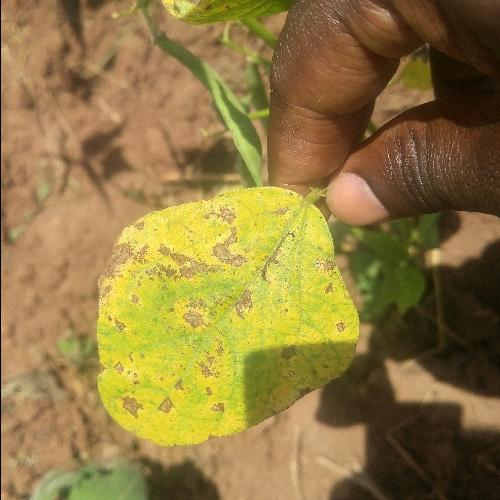hawar: (77, 190, 355, 445)
